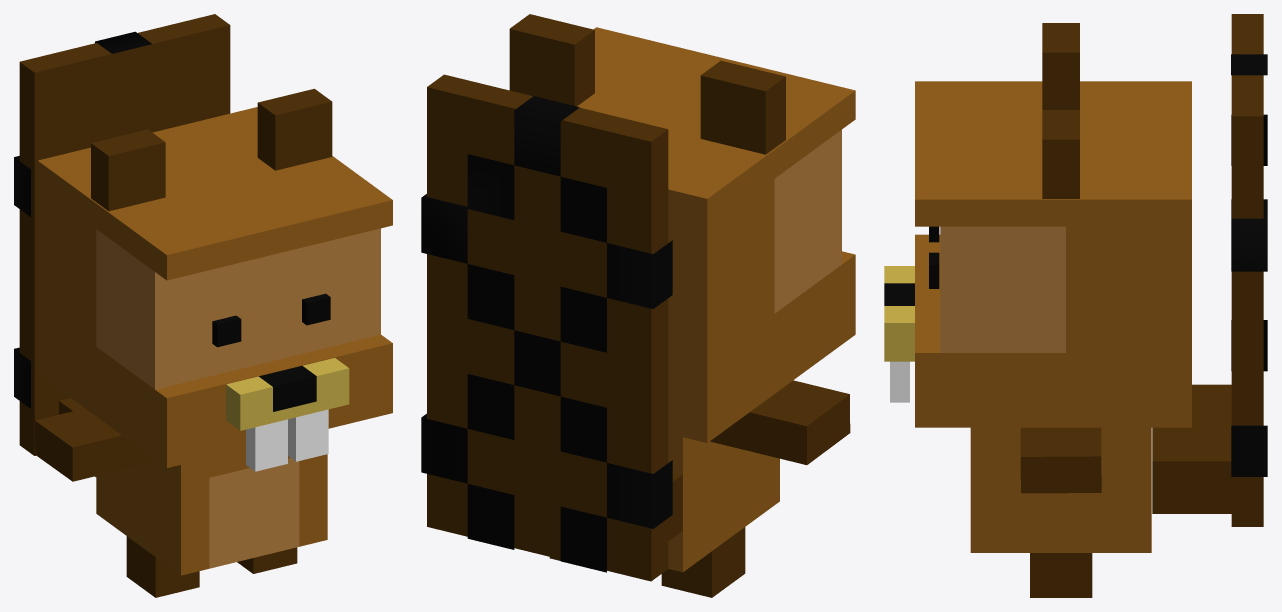
The model's file is beaver.FBX.
3 renders of one model, left to right at view 1: azimuth 30°, elevation 25°; view 2: azimuth 150°, elevation 25°; view 3: azimuth 270°, elevation 25°, orthographic. The views are drawn at different scales.
Visible parts, largest first — view 1: beaver_head, beaver_tail, beaver_body, beaver_nose, beaver_arm_R, beaver_ear_L, beaver_ear_R, beaver_teeth, beaver_leg_R, beaver_eyes, beaver_leg_L; view 2: beaver_tail, beaver_head, beaver_body, beaver_arm_R, beaver_ear_R, beaver_ear_L, beaver_leg_R; view 3: beaver_head, beaver_tail, beaver_body, beaver_arm_L, beaver_ear_L, beaver_ear_R, beaver_nose, beaver_leg_L, beaver_teeth, beaver_eyes.
Boxes of the visible parts, x1,y1,x2,y2 form: beaver_head: (37,107,392,467); beaver_tail: (14,14,230,476); beaver_body: (96,449,327,575); beaver_nose: (226,358,349,430); beaver_arm_R: (35,408,156,481); beaver_ear_L: (257,88,332,170); beaver_ear_R: (91,129,165,211); beaver_teeth: (246,409,328,471); beaver_leg_R: (126,536,199,597); beaver_eyes: (212,293,330,347); beaver_leg_L: (237,547,297,573); beaver_tail: (421,74,682,581); beaver_head: (577,27,855,442); beaver_body: (668,433,779,572); beaver_arm_R: (710,380,850,464); beaver_ear_R: (700,60,785,154); beaver_ear_L: (509,14,594,106); beaver_leg_R: (661,527,745,597); beaver_head: (915,81,1191,427); beaver_tail: (1152,14,1267,526); beaver_body: (970,427,1151,552); beaver_arm_L: (1020,427,1101,493); beaver_ear_L: (1042,110,1079,198); beaver_ear_R: (1042,23,1079,109); beaver_nose: (884,266,914,361); beaver_leg_L: (1030,553,1092,597); beaver_teeth: (890,361,909,402); beaver_eyes: (929,226,939,288).
Bounding box in the file's own units: 77.61 × 109 × 76.11.
